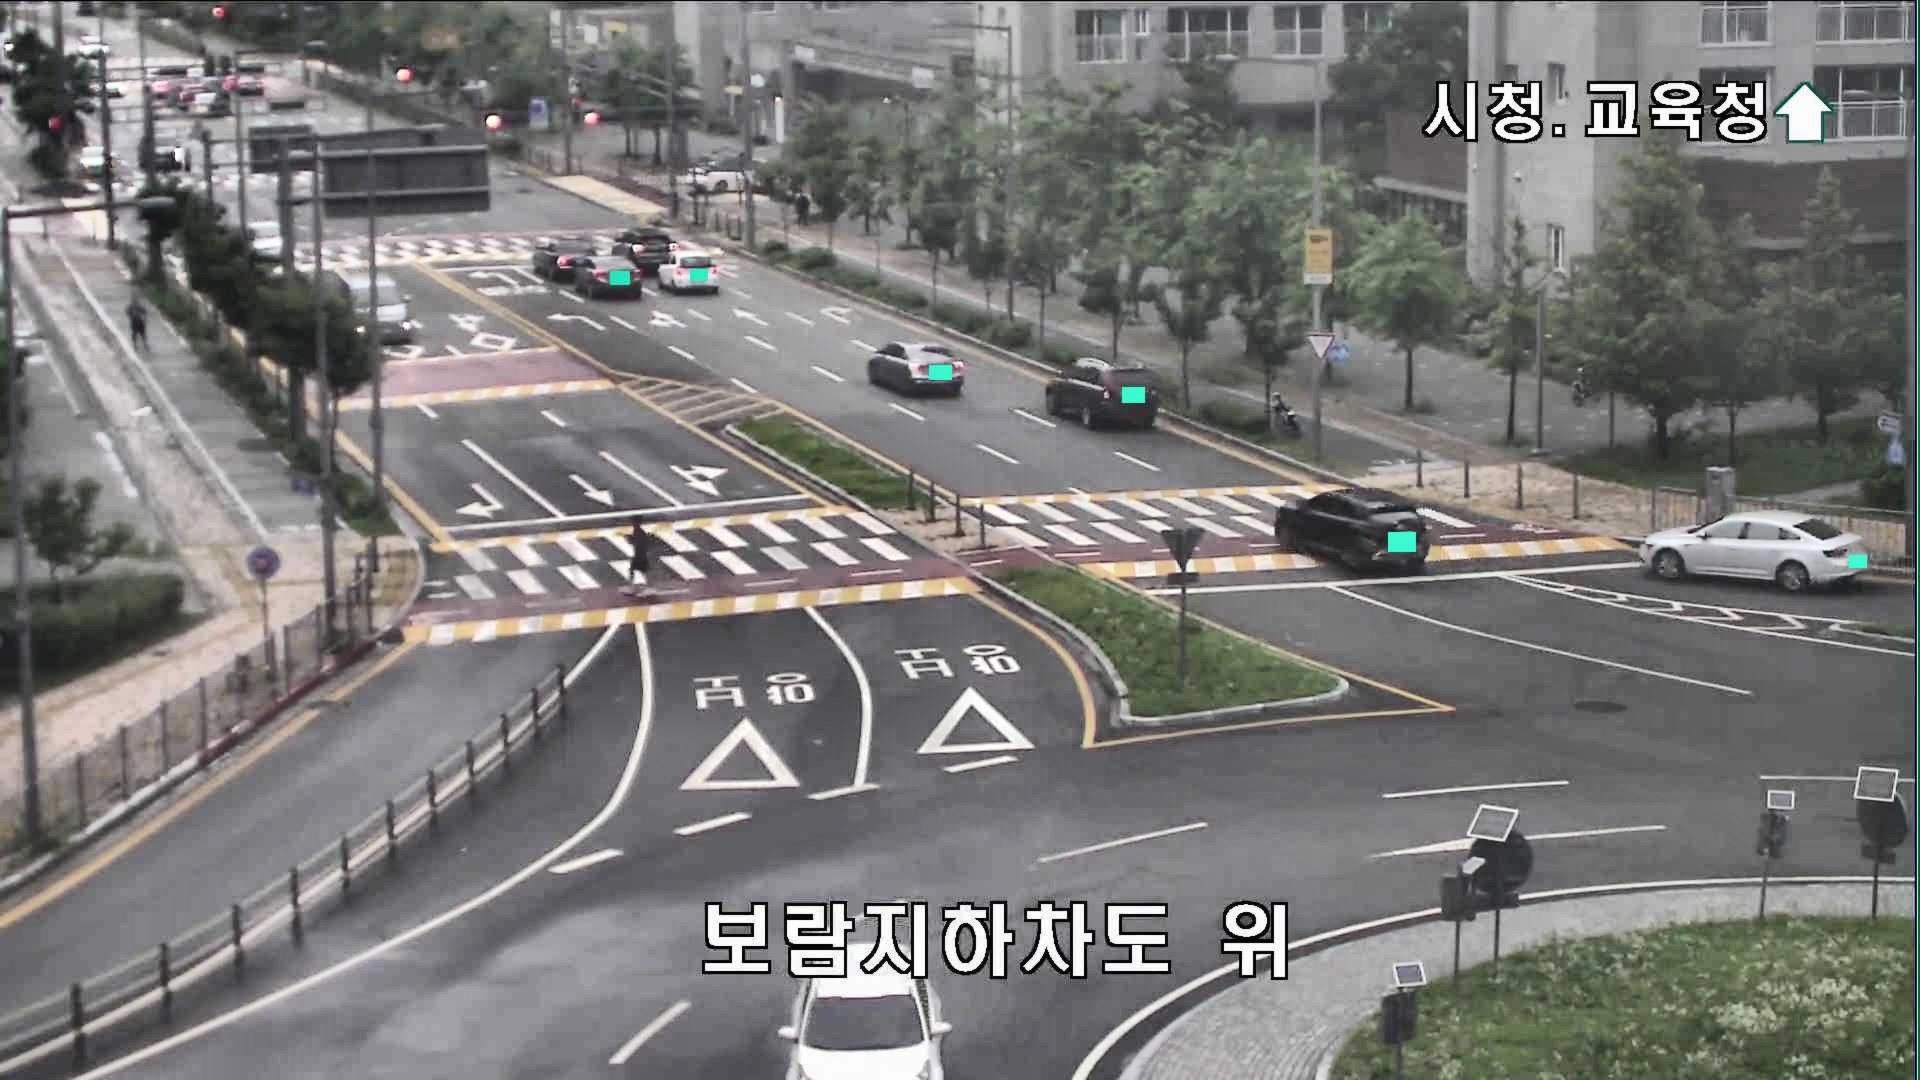crosswalk: (618, 514, 651, 596)
sidewalk: (123, 293, 153, 348)
